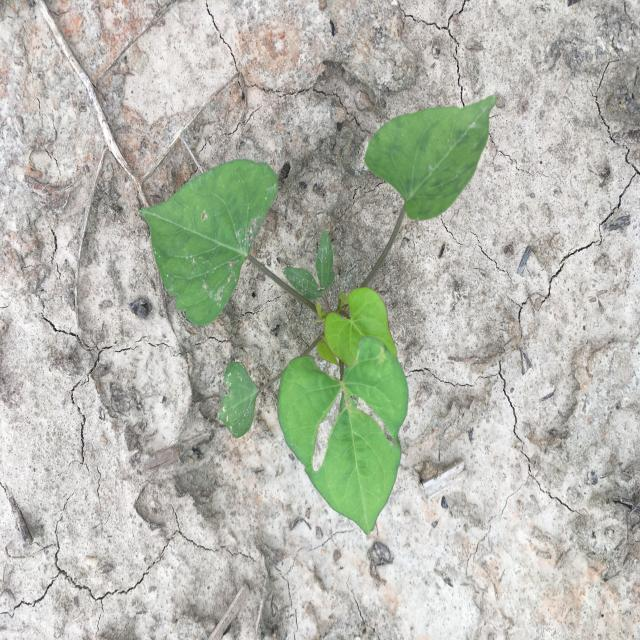MorningGlory: (138, 94, 498, 536)
